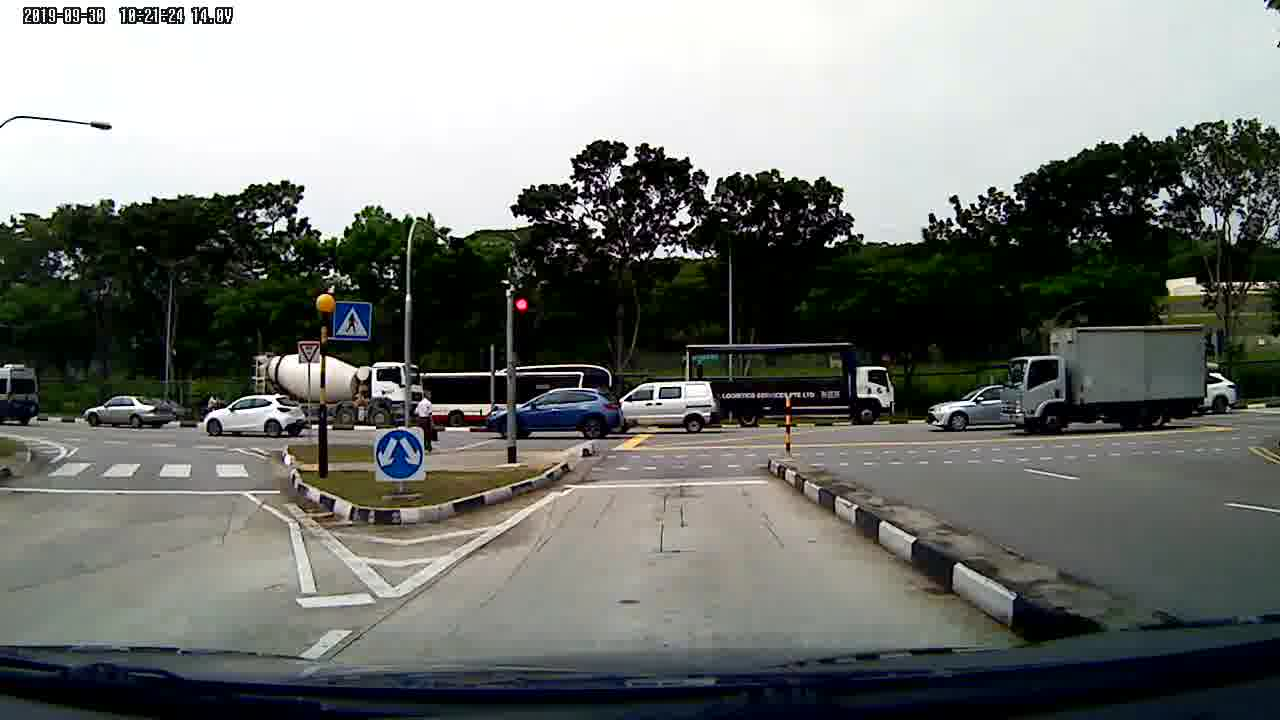bus: (424, 366, 620, 420)
car: (490, 391, 629, 444), (201, 396, 307, 438), (79, 390, 172, 435), (926, 386, 1003, 433)
